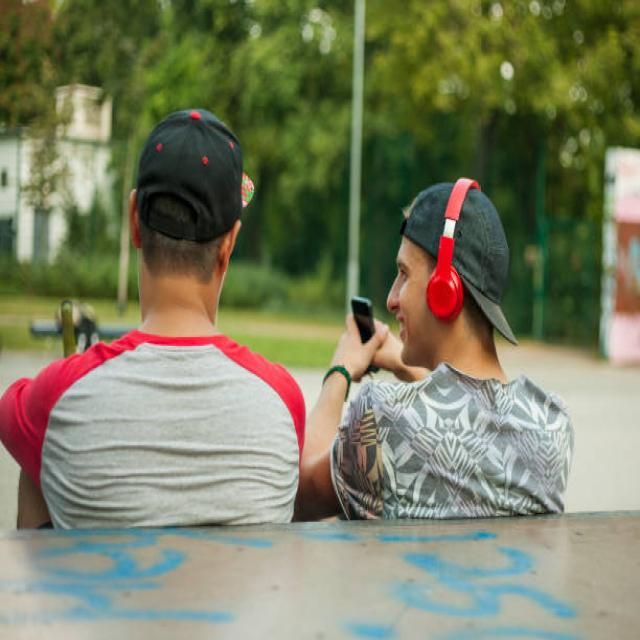Headphone: (426, 178, 480, 327)
